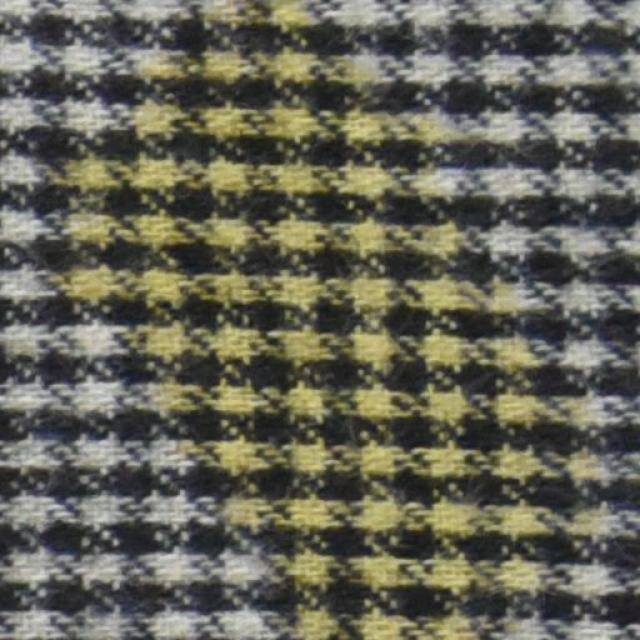Stain: (44, 0, 617, 639)
